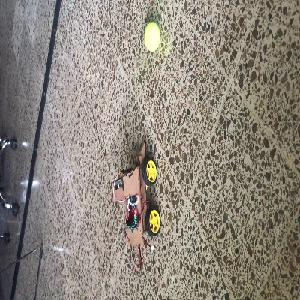Ball: (144, 23, 160, 51)
Robot: (111, 140, 161, 247)
